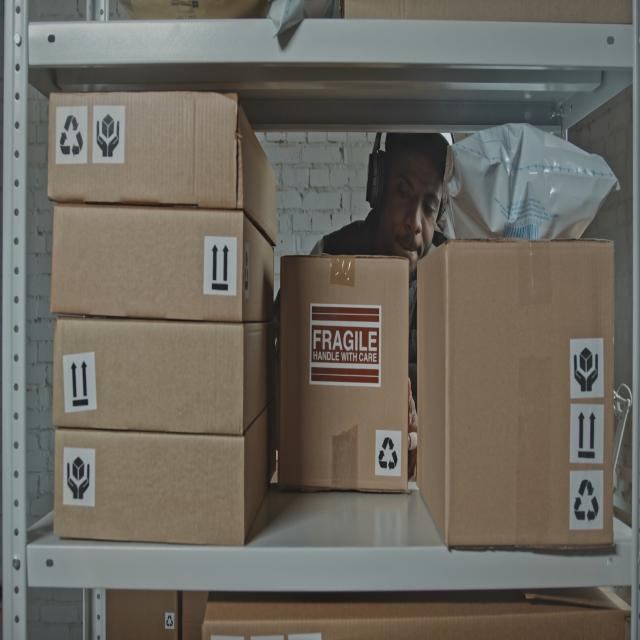counting-the-number-of-boxes: (416, 241, 614, 548), (48, 92, 277, 247), (54, 400, 276, 545), (278, 257, 409, 493), (54, 317, 276, 435), (51, 206, 276, 321)
